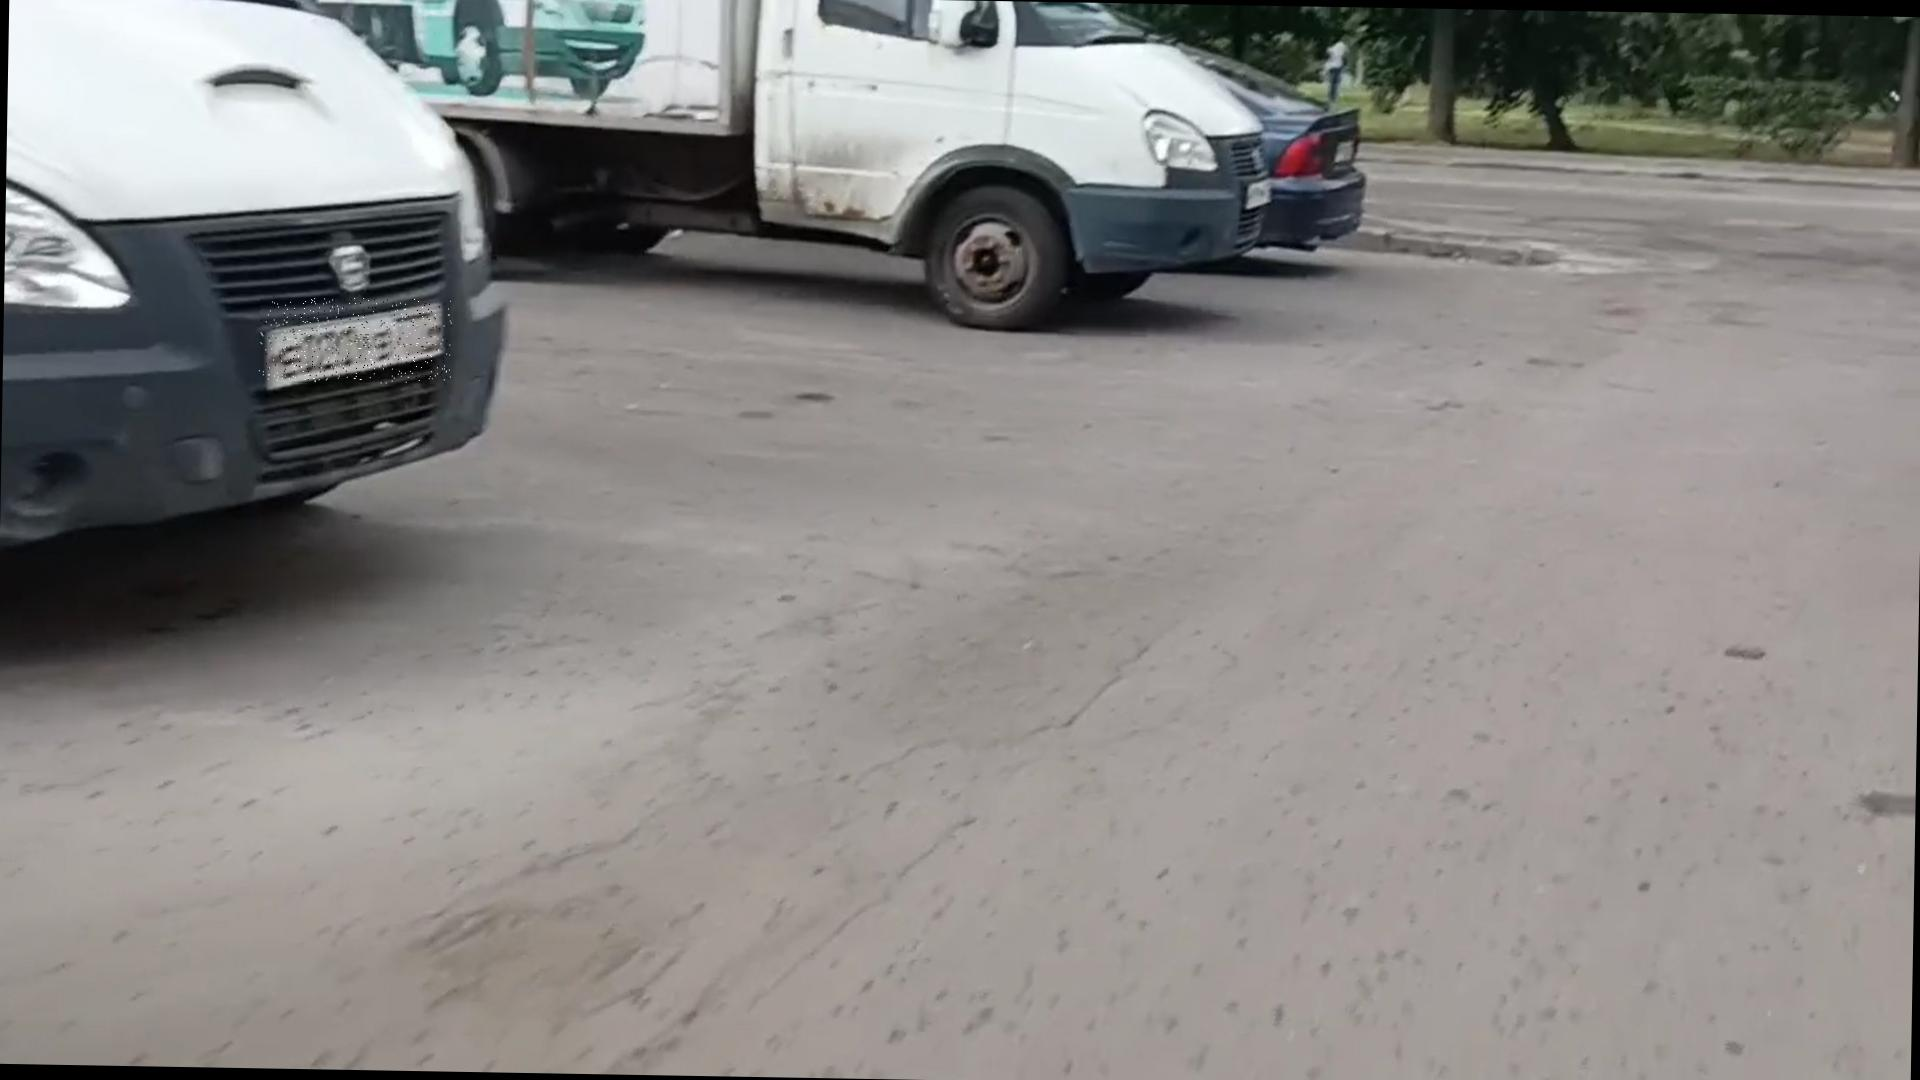plate: (260, 298, 453, 387)
